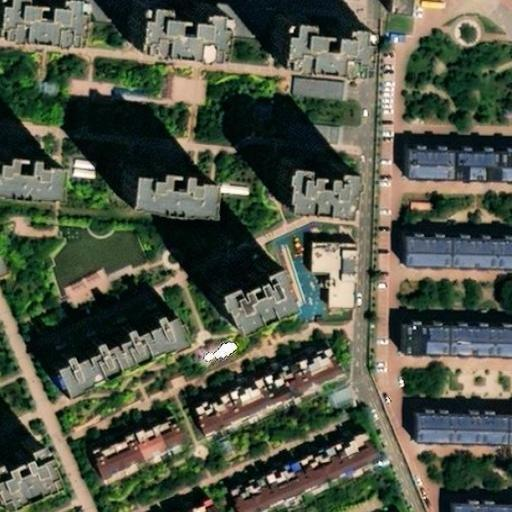building: (185, 351, 348, 449), (55, 345, 194, 431), (236, 440, 375, 512), (122, 197, 210, 252), (91, 419, 173, 478), (281, 19, 362, 75), (139, 7, 220, 63), (406, 336, 512, 373), (407, 163, 512, 200), (417, 251, 512, 287), (275, 199, 344, 241), (422, 434, 512, 463), (0, 466, 46, 512), (387, 0, 419, 34), (448, 499, 512, 511), (176, 496, 215, 512)
